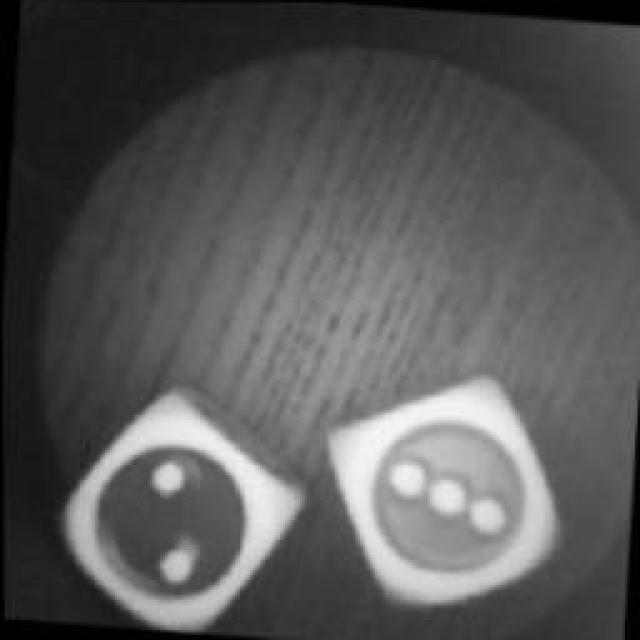dice_2: (48, 387, 303, 640)
dice_3: (317, 369, 565, 619)
